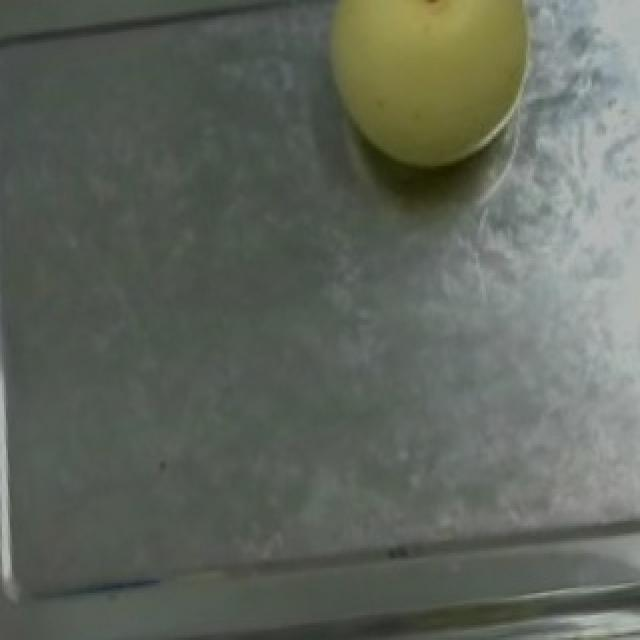Fruit: (296, 0, 558, 186)
